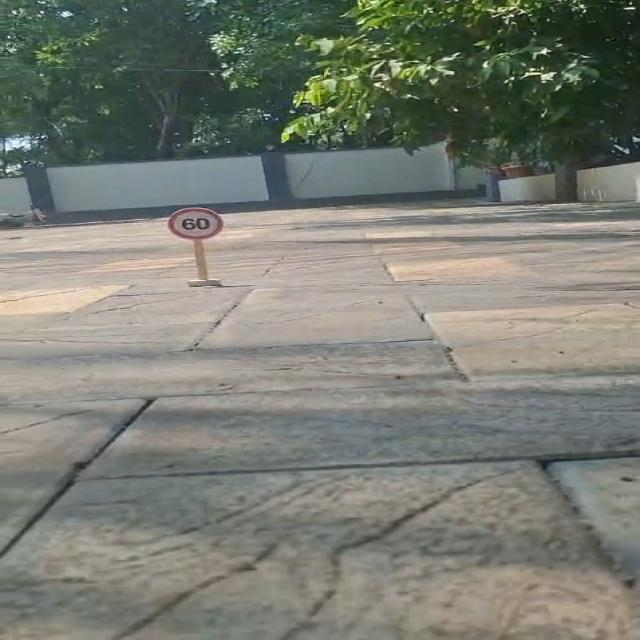Speed60: (166, 206, 226, 241)
